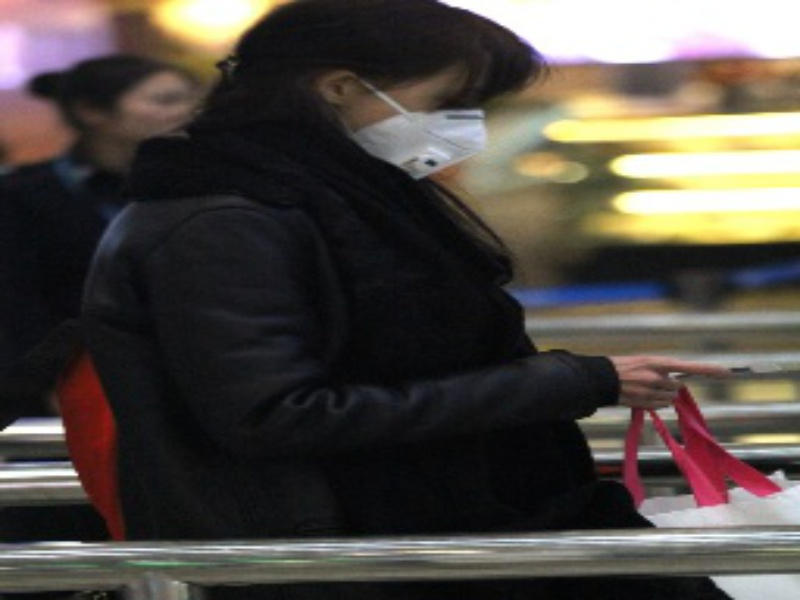ManaoArotava: (289, 2, 563, 239)
